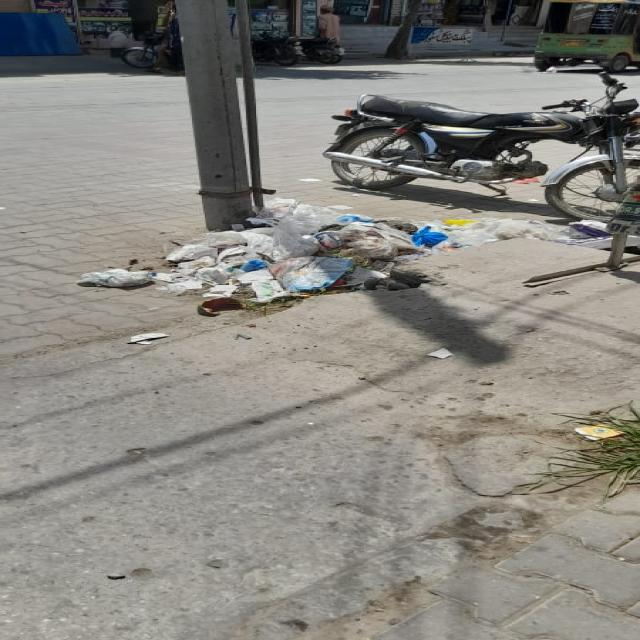plastic: (80, 198, 604, 291)
